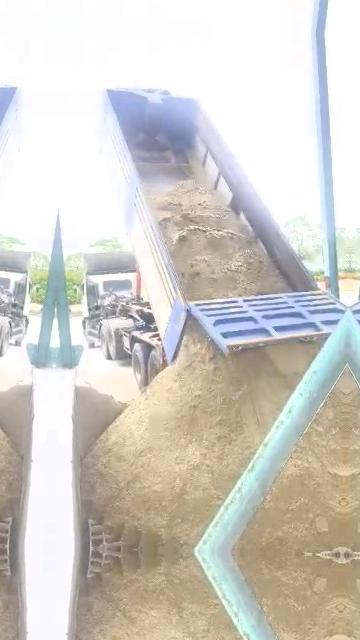sand: (82, 323, 319, 549), (243, 373, 347, 553), (146, 180, 290, 300), (76, 375, 124, 457)
